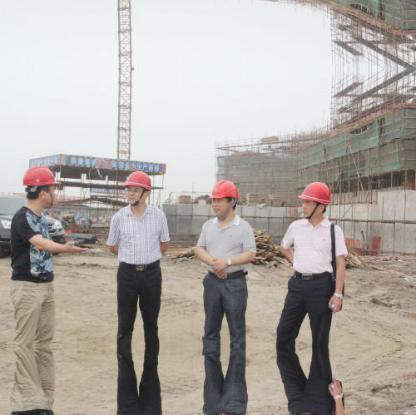helmet: (22, 163, 59, 189), (298, 181, 333, 207), (121, 168, 154, 192), (208, 181, 239, 204)
